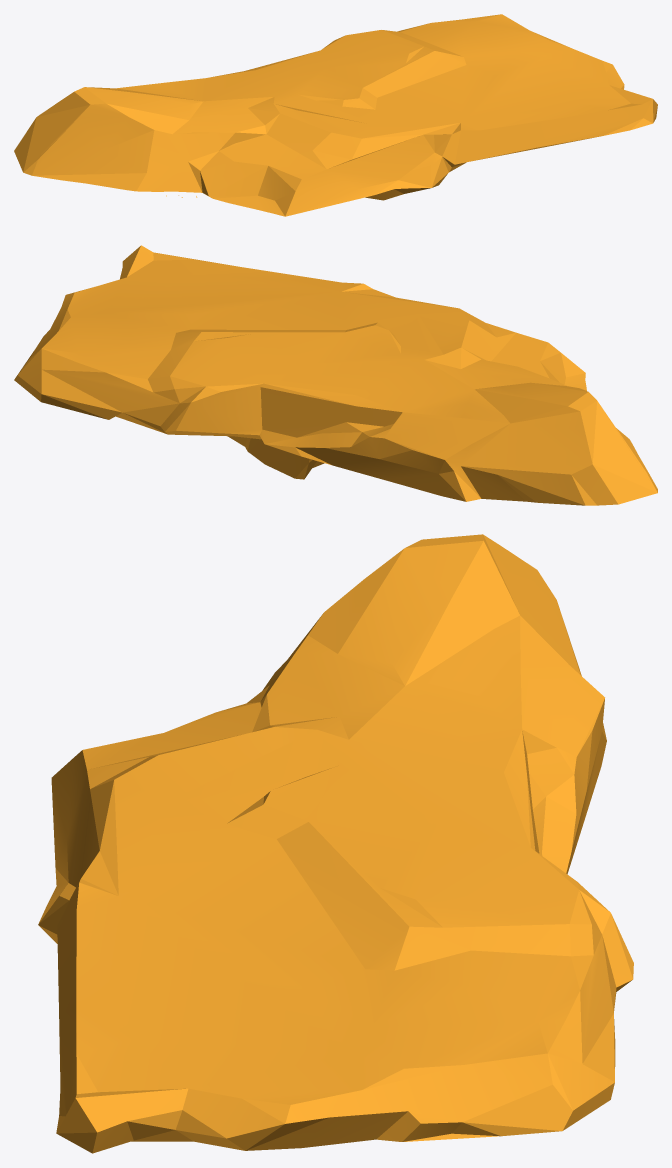
Rendered from SM_Iceberg_Small_D_Plane.fbx.
3 views of the same model, one above another, from view 1: azimuth 30°, elevation 25°; view 2: azimuth 150°, elevation 25°; view 3: azimuth 270°, elevation 25° (orthographic). The views are drawn at different scales.
Visible parts, largest first — view 1: iceberg-small-d-plane; view 2: iceberg-small-d-plane; view 3: iceberg-small-d-plane.
Boxes of the visible parts, left/top/right/bottom form: iceberg-small-d-plane: left=14, top=14, right=657, bottom=216; iceberg-small-d-plane: left=14, top=245, right=657, bottom=505; iceberg-small-d-plane: left=38, top=534, right=633, bottom=1153.
Bounding box in the file's own units: 12.63 × 2.63 × 5.95.
